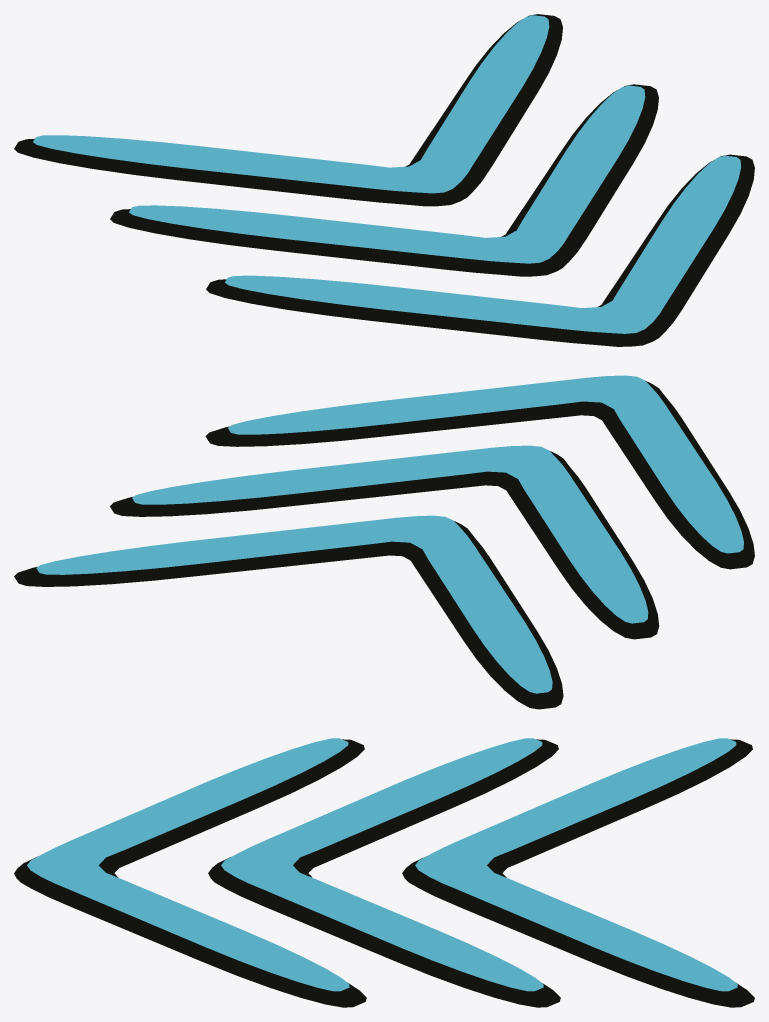
Rendered from PermanentBoost.fbx.
3 views of the same model, one above another, from view 1: azimuth 30°, elevation 25°; view 2: azimuth 150°, elevation 25°; view 3: azimuth 270°, elevation 25° (orthographic).
Visible parts, largest first — view 1: Arrow; view 2: Arrow; view 3: Arrow.
Part boxes in pixels (bbox=[...]): Arrow: bbox=[14, 14, 754, 346]; Arrow: bbox=[14, 375, 754, 709]; Arrow: bbox=[14, 738, 754, 1007].
Bounding box in the file's own units: 545 × 7.54 × 636.
